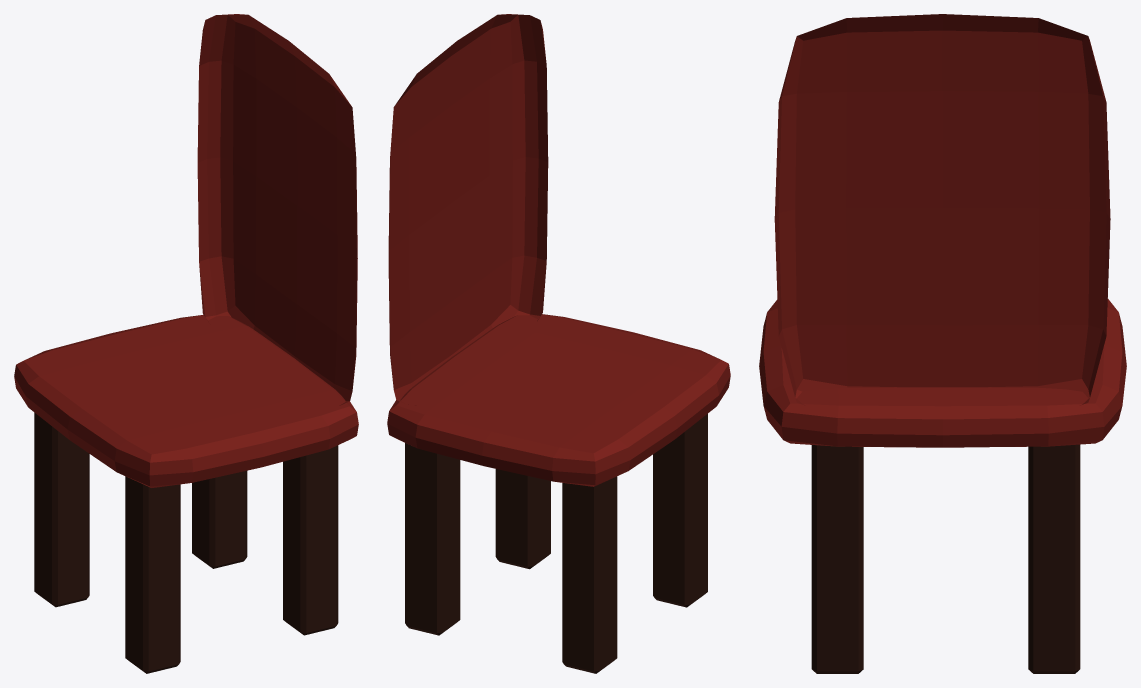
Rendered from chair.fbx.
3 views of the same model, side by side, from view 1: azimuth 30°, elevation 25°; view 2: azimuth 150°, elevation 25°; view 3: azimuth 270°, elevation 25° (orthographic). The views are drawn at different scales.
Parts seen in each view (by area): view 1: Cube.005, Cube.004, Cube, Cube.003, Cube.001, Cube.002; view 2: Cube.005, Cube.004, Cube.001, Cube.002, Cube, Cube.003; view 3: Cube.005, Cube.004, Cube.002, Cube.003.
Part boxes in pixels (x1,y1,x2,y2): Cube.005: (197,14,357,405); Cube.004: (14,314,358,487); Cube: (125,476,180,673); Cube.003: (283,445,338,635); Cube.001: (34,412,89,607); Cube.002: (192,470,247,568); Cube.005: (388,14,548,405); Cube.004: (387,314,730,486); Cube.001: (562,476,617,673); Cube.002: (405,443,460,635); Cube: (653,414,707,607); Cube.003: (495,469,550,569); Cube.005: (774,14,1110,405); Cube.004: (759,298,1126,447); Cube.002: (1028,444,1080,673); Cube.003: (811,445,863,673).
Size of the model in its own units: 52.96 by 117 by 59.43.
